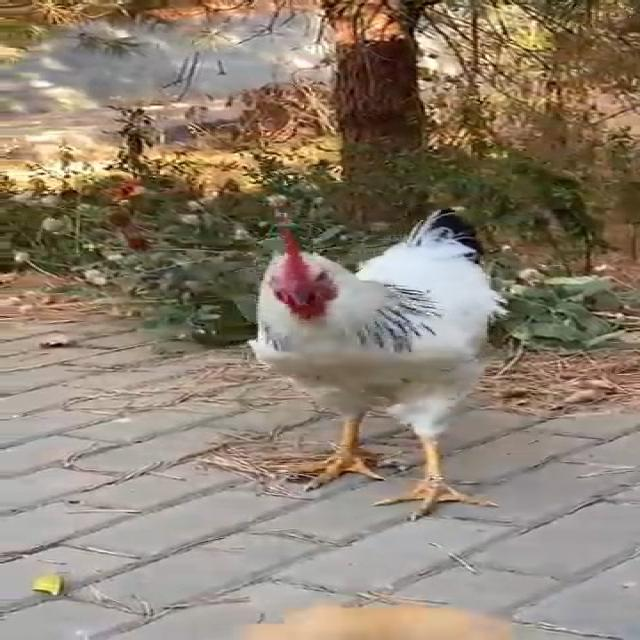walking: (228, 204, 540, 520)
